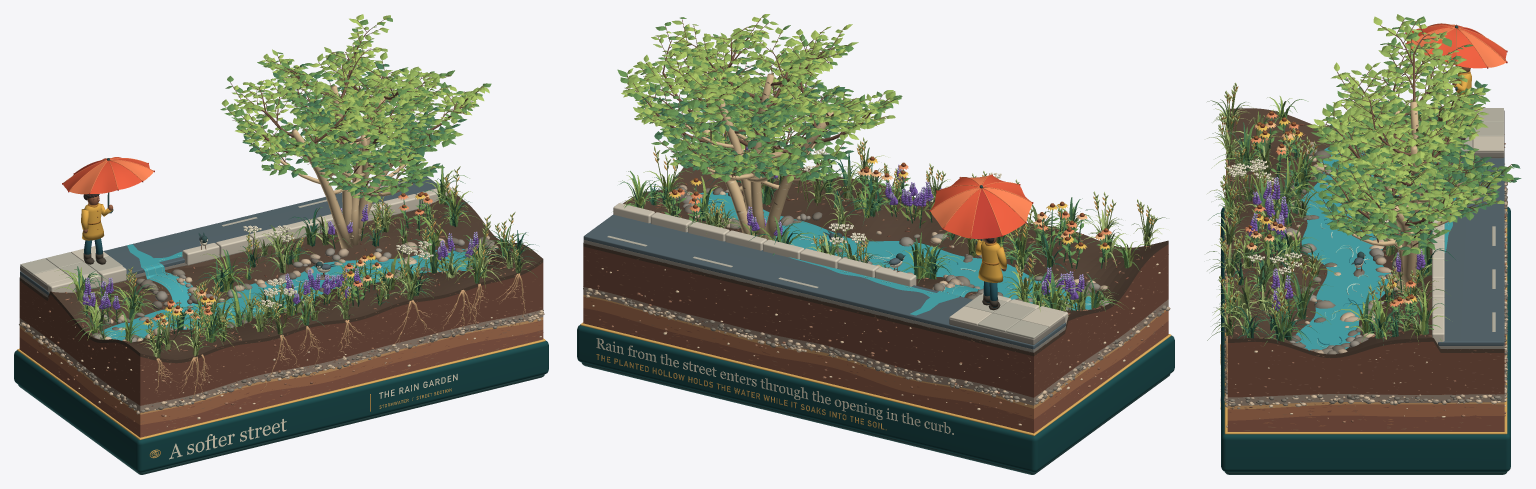
File: a-softer-street.glb
3 views of the same model, side by side, from view 1: azimuth 30°, elevation 25°; view 2: azimuth 150°, elevation 25°; view 3: azimuth 270°, elevation 25° (orthographic). The views are drawn at different scales.
Parts seen in each view (by area): view 1: Ground • loam.003, Ground • mulch.003, Deep teal exhibition plinth, River birch • leafy twigs • green2.003, River birch • leafy twigs • green3.003, Ground • native dark.003, Ground • native.003, Captured rain • water.003, Bluestone asphalt, Sedges and rushes • sedge lite.003, Sedges and rushes • sedge.003, River birch • leafy twigs • green4.003 (+36 smaller); view 2: Ground • loam.003, Deep teal exhibition plinth, Ground • mulch.003, Bluestone asphalt, River birch • leafy twigs • green3.003, River birch • leafy twigs • green2.003, Ground • native dark.003, Ground • native.003, Captured rain • water.003, River birch • leafy twigs • green4.003, River birch • leafy twigs • bark.003, River birch • stems • birch.003 (+34 smaller); view 3: Ground • loam.003, River birch • leafy twigs • green3.003, Deep teal exhibition plinth, Ground • mulch.003, River birch • leafy twigs • green2.003, Bluestone asphalt, Captured rain • water.003, River birch • leafy twigs • green4.003, River birch • leafy twigs • bark.003, Sedges and rushes • sedge.003, Sedges and rushes • sedge lite.003, Ground • native dark.003 (+39 smaller).
Boxes of the visible parts, left/top/right/bottom form: Ground • loam.003: left=19, top=262, right=543, bottom=405; Ground • mulch.003: left=19, top=193, right=543, bottom=363; Deep teal exhibition plinth: left=14, top=340, right=548, bottom=472; River birch • leafy twigs • green2.003: left=220, top=17, right=491, bottom=202; River birch • leafy twigs • green3.003: left=221, top=15, right=484, bottom=202; Ground • native dark.003: left=19, top=330, right=543, bottom=437; Ground • native.003: left=19, top=320, right=543, bottom=424; Captured rain • water.003: left=102, top=244, right=486, bottom=340; Bluestone asphalt: left=20, top=176, right=440, bottom=295; Sedges and rushes • sedge lite.003: left=78, top=166, right=531, bottom=357; Sedges and rushes • sedge.003: left=80, top=171, right=525, bottom=358; River birch • leafy twigs • green4.003: left=233, top=14, right=489, bottom=154; Ground • loam.003: left=583, top=244, right=1168, bottom=397; Deep teal exhibition plinth: left=577, top=324, right=1174, bottom=472; Ground • mulch.003: left=583, top=146, right=1168, bottom=356; Bluestone asphalt: left=583, top=214, right=1065, bottom=349; River birch • leafy twigs • green3.003: left=623, top=14, right=898, bottom=182; River birch • leafy twigs • green2.003: left=617, top=17, right=902, bottom=182; Ground • native dark.003: left=583, top=308, right=1168, bottom=433; Ground • native.003: left=583, top=296, right=1168, bottom=419; Captured rain • water.003: left=696, top=191, right=1097, bottom=315; River birch • leafy twigs • green4.003: left=621, top=17, right=885, bottom=139; River birch • leafy twigs • bark.003: left=625, top=17, right=897, bottom=178; River birch • stems • birch.003: left=685, top=73, right=833, bottom=240; Ground • loam.003: left=1227, top=341, right=1504, bottom=397; River birch • leafy twigs • green3.003: left=1310, top=14, right=1511, bottom=253; Deep teal exhibition plinth: left=1221, top=207, right=1510, bottom=471; Ground • mulch.003: left=1227, top=108, right=1504, bottom=357; River birch • leafy twigs • green2.003: left=1310, top=16, right=1514, bottom=255; Bluestone asphalt: left=1438, top=157, right=1504, bottom=345; Captured rain • water.003: left=1296, top=147, right=1502, bottom=350; River birch • leafy twigs • green4.003: left=1306, top=16, right=1485, bottom=217; River birch • leafy twigs • bark.003: left=1317, top=19, right=1513, bottom=249; Sedges and rushes • sedge.003: left=1207, top=85, right=1438, bottom=344; Sedges and rushes • sedge lite.003: left=1212, top=82, right=1435, bottom=334; Ground • native dark.003: left=1227, top=415, right=1504, bottom=431.
Bounding box in the file's own units: 10.57 × 7.34 × 5.95.
